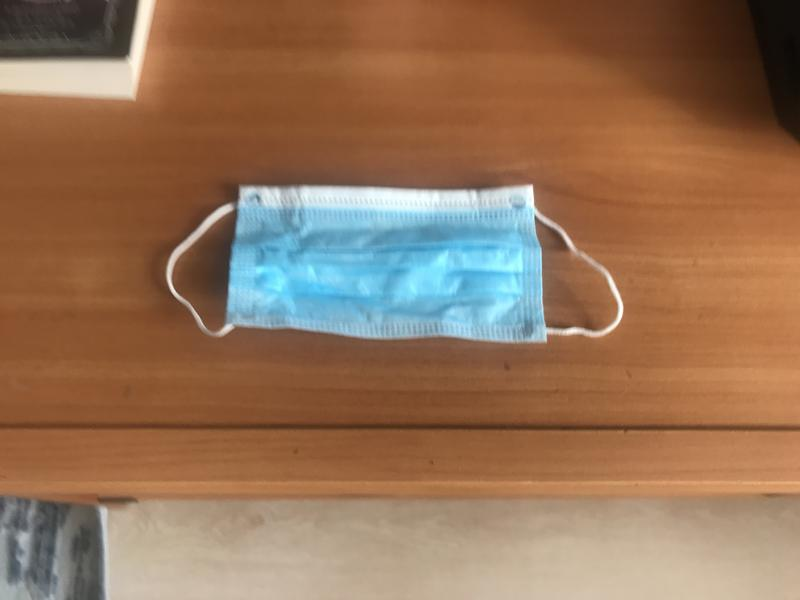medical_mask: (167, 182, 624, 341)
